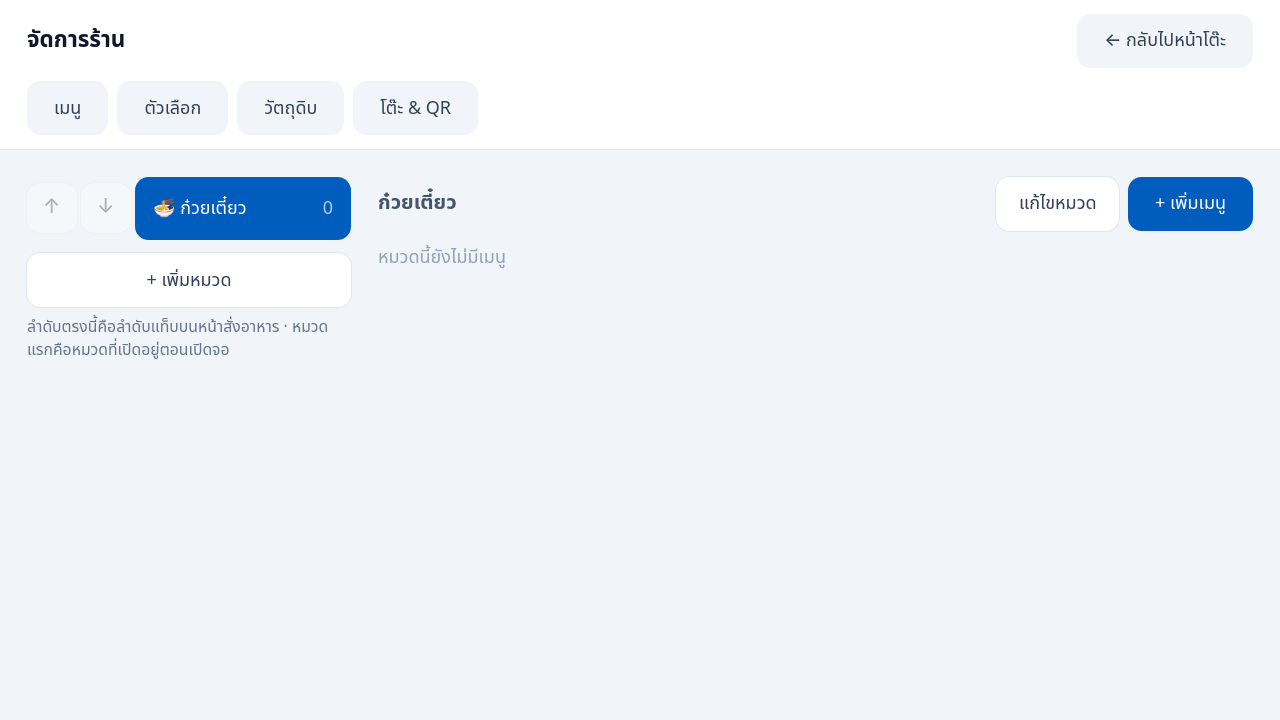
Test: categories › opens on what the category already is, subcategories one per line
The width and height of the screenshot is (1280, 720).
Check: the navigation bar "หมวด" is shown, box [27,176,351,361]
Click the button "แก้ไขหมวด".
click(1058, 204)  # box [996,176,1119,230]
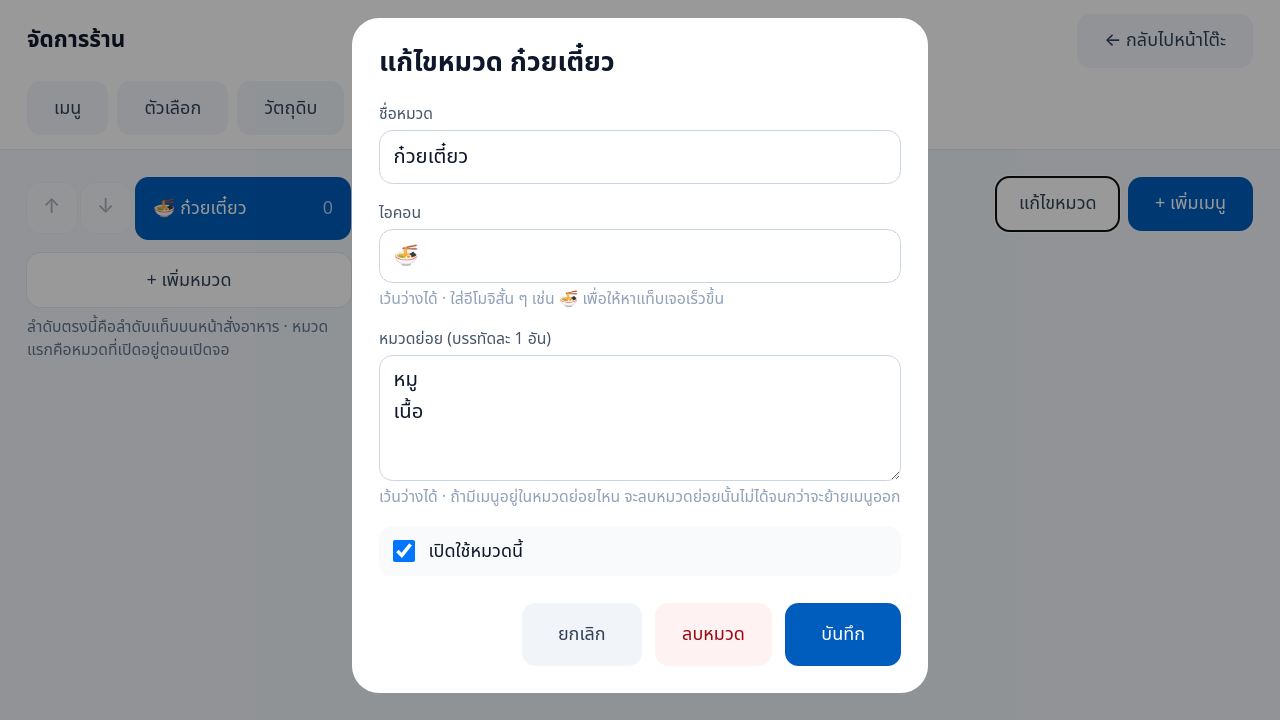
Check: the field labelled "ชื่อหมวด" holds "ก๋วยเตี๋ยว", box [379,130,901,184]
Check: the field labelled "ไอคอน" holds "🍜", box [379,230,901,284]
